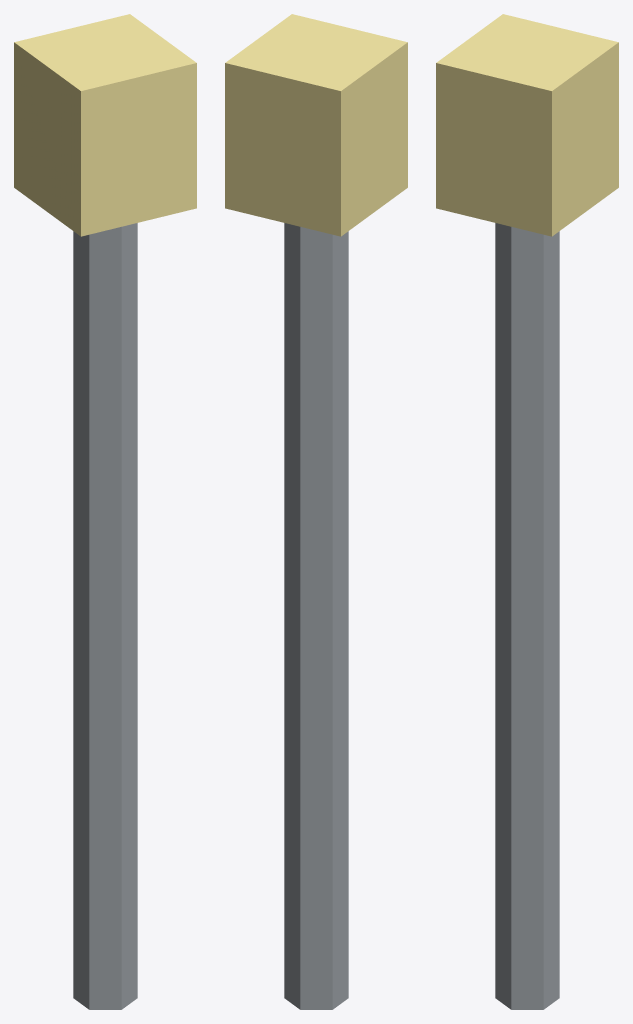
Rendered from low_poly_lamp.glb.
The picture shows the model from 3 angles, left to right: view 1: azimuth 30°, elevation 25°; view 2: azimuth 150°, elevation 25°; view 3: azimuth 330°, elevation 25°; orthographic projection.
Parts seen in each view (by area): view 1: Lamp.001; view 2: Lamp.001; view 3: Lamp.001.
Part boxes in pixels (left/top/right/bottom): Lamp.001: left=14, top=14, right=196, bottom=1009; Lamp.001: left=225, top=14, right=407, bottom=1009; Lamp.001: left=436, top=14, right=618, bottom=1009.
Size of the model in its own units: 0.25 by 1.95 by 0.25.
